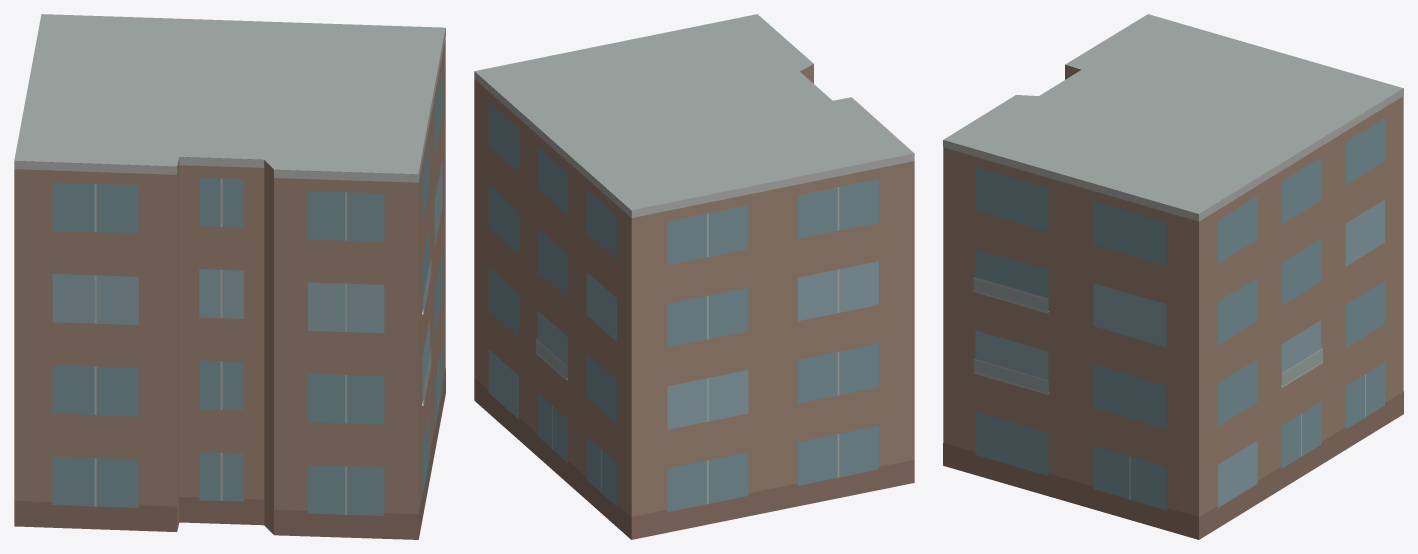
File: survey-upis-32922815.glb
The picture shows the model from 3 angles, left to right: view 1: azimuth 30°, elevation 25°; view 2: azimuth 150°, elevation 25°; view 3: azimuth 270°, elevation 25°; orthographic projection. The views are drawn at different scales.
Parts seen in each view (by area): view 1: survey-upis-32922815.tmp; view 2: survey-upis-32922815.tmp; view 3: survey-upis-32922815.tmp.
Boxes of the visible parts, x1,y1,x2,y2 form: survey-upis-32922815.tmp: [14, 14, 445, 539]; survey-upis-32922815.tmp: [474, 14, 914, 539]; survey-upis-32922815.tmp: [943, 14, 1403, 539].
Bounding box in the file's own units: 13.97 × 10.6 × 13.59.
